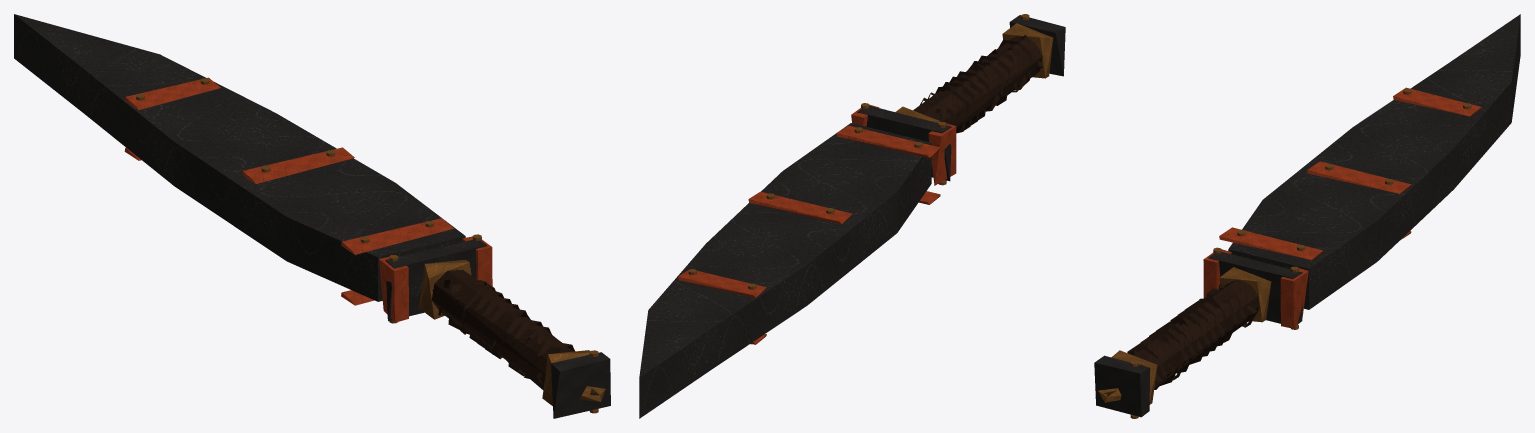
Rendered from kiln-sword-stowed-lod2.glb.
The picture shows the model from 3 angles, left to right: view 1: azimuth 30°, elevation 25°; view 2: azimuth 150°, elevation 25°; view 3: azimuth 330°, elevation 25°; orthographic projection. The views are drawn at different scales.
Visible parts, largest first — view 1: Forged fitted scabbard, Grip core, Pommel iron cap, Guard iron block, Ceramic scabbard strap.003, Ceramic scabbard strap.001, Ceramic guard cheek, Ceramic scabbard strap.005, Brass grip ferrule.001, Ceramic guard cheek.001, Brass grip ferrule; view 2: Forged fitted scabbard, Grip core, Guard iron block, Ceramic scabbard strap.003, Ceramic scabbard strap.001, Pommel iron cap, Ceramic guard cheek, Ceramic scabbard strap.005, Brass grip ferrule; view 3: Forged fitted scabbard, Grip core, Pommel iron cap, Guard iron block, Ceramic scabbard strap.001, Ceramic scabbard strap.003, Ceramic guard cheek.001, Ceramic scabbard strap.005, Brass grip ferrule.001, Ceramic guard cheek, Brass grip ferrule.
Part boxes in pixels (x1,y1,x2,y2): Forged fitted scabbard: [14, 14, 465, 301]; Grip core: [431, 269, 573, 386]; Pommel iron cap: [551, 352, 610, 418]; Guard iron block: [385, 239, 486, 321]; Ceramic scabbard strap.003: [242, 147, 354, 183]; Ceramic scabbard strap.001: [341, 218, 453, 254]; Ceramic guard cheek: [379, 257, 408, 322]; Ceramic scabbard strap.005: [124, 77, 220, 109]; Brass grip ferrule.001: [419, 260, 471, 319]; Ceramic guard cheek.001: [462, 236, 492, 289]; Brass grip ferrule: [542, 350, 590, 405]; Forged fitted scabbard: [639, 123, 931, 418]; Grip core: [913, 36, 1042, 132]; Guard iron block: [857, 105, 951, 181]; Ceramic scabbard strap.003: [748, 191, 852, 224]; Ceramic scabbard strap.001: [836, 125, 940, 157]; Pommel iron cap: [1009, 15, 1065, 76]; Ceramic guard cheek: [928, 123, 956, 185]; Ceramic scabbard strap.005: [678, 270, 766, 297]; Brass grip ferrule: [1002, 23, 1053, 78]; Forged fitted scabbard: [1228, 14, 1520, 309]; Grip core: [1130, 279, 1259, 388]; Pommel iron cap: [1094, 355, 1150, 417]; Guard iron block: [1208, 252, 1302, 324]; Ceramic scabbard strap.001: [1219, 227, 1323, 259]; Ceramic scabbard strap.003: [1307, 161, 1411, 193]; Ceramic guard cheek.001: [1280, 268, 1308, 328]; Ceramic scabbard strap.005: [1393, 87, 1481, 116]; Brass grip ferrule.001: [1219, 267, 1271, 322]; Ceramic guard cheek: [1203, 249, 1231, 297]; Brass grip ferrule: [1111, 350, 1157, 404].
Bounding box in the file's own units: 0.189 × 0.092 × 1.33.
4 materials, 4 textured.
